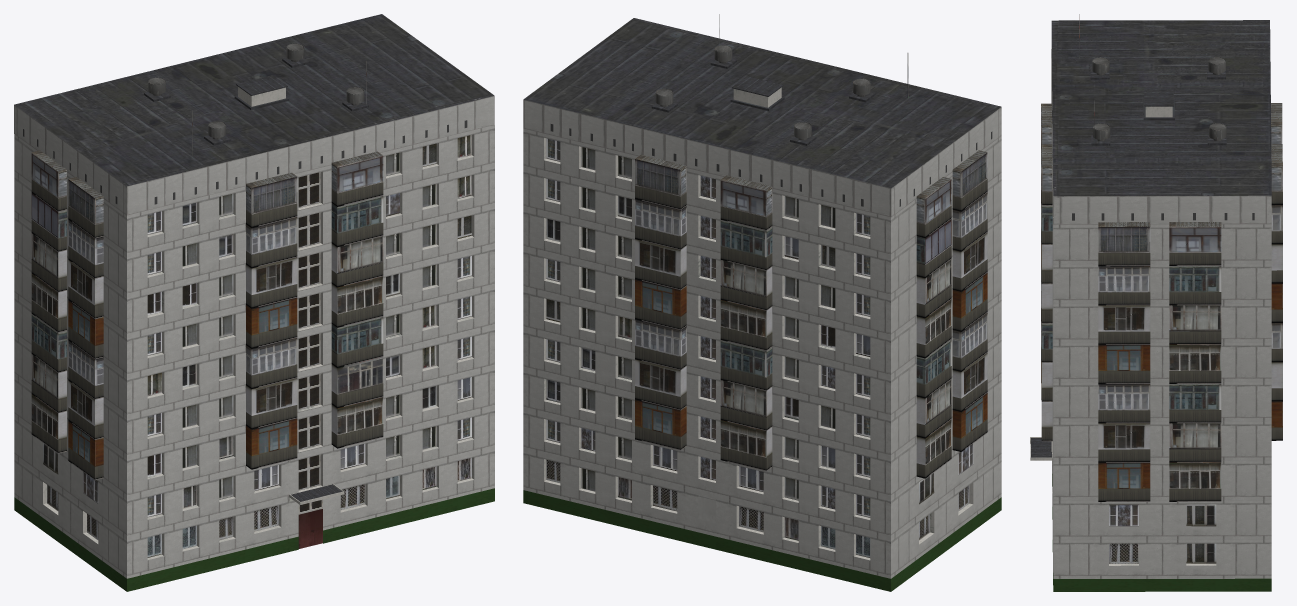
The picture shows the model from 3 angles, left to right: view 1: azimuth 30°, elevation 25°; view 2: azimuth 150°, elevation 25°; view 3: azimuth 270°, elevation 25°; orthographic projection. The views are drawn at different scales.
Parts seen in each view (by area): view 1: II18_9; view 2: II18_9; view 3: II18_9.
Boxes of the visible parts, x1,y1,x2,y2 form: II18_9: (14,14,494,591); II18_9: (523,14,1001,591); II18_9: (1030,14,1282,591).
Bounding box in the file's own units: 50.94 × 56.63 × 29.47.
1 material, 1 textured.
